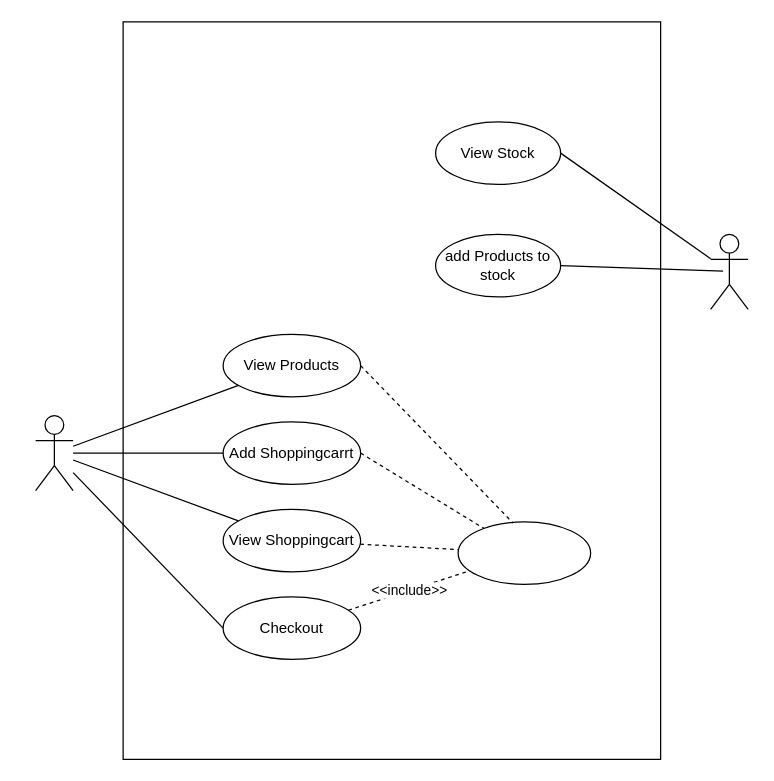
Some shapes in this 774 by 781 pixel diagram are drawn without their labels. The centre of each missing label's shape, as x and y in pixels:
"Customer" goes at point (53, 452).
"Login" goes at point (524, 552).
"Worker" goes at point (728, 271).
